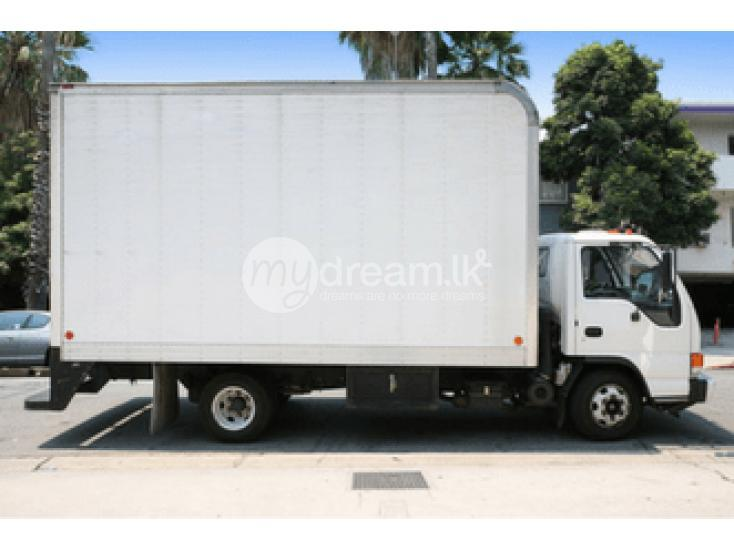truck: (23, 79, 710, 442)
